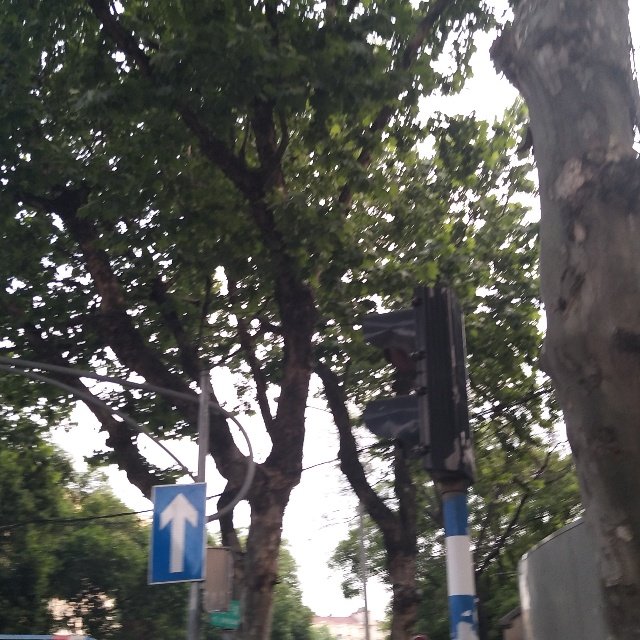straight: (153, 482, 202, 575)
